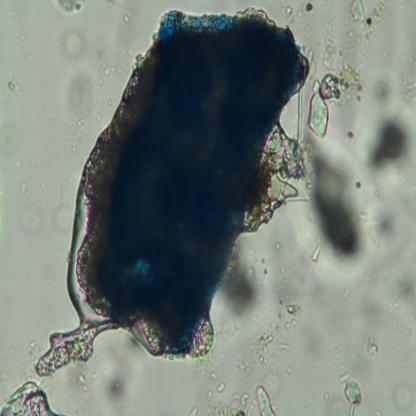Background material: (304, 2, 386, 139), (302, 136, 372, 270), (235, 302, 300, 381), (36, 315, 106, 378), (365, 113, 415, 176), (221, 261, 264, 324), (190, 384, 275, 415), (0, 381, 68, 415), (66, 72, 98, 123), (273, 259, 307, 305), (338, 369, 364, 415), (101, 367, 129, 403), (390, 274, 416, 302), (64, 29, 86, 62), (57, 0, 86, 19), (6, 73, 26, 99), (54, 206, 74, 231), (360, 336, 379, 358)
Fragment: (75, 7, 314, 358)
